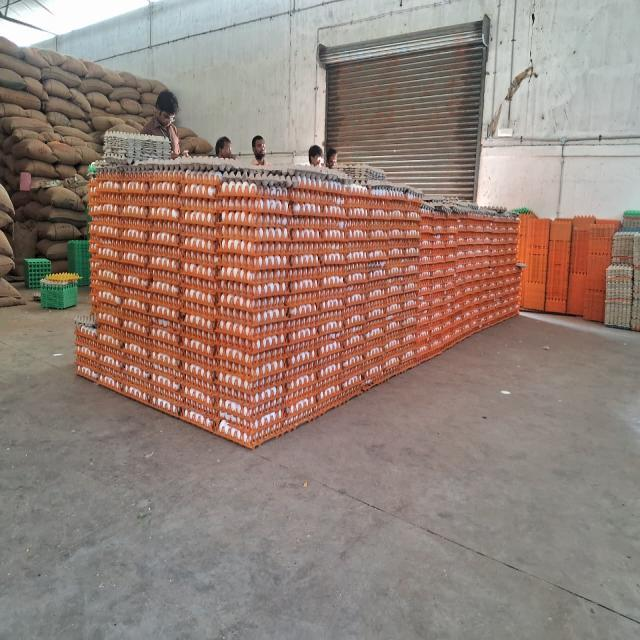egg_tray: (92, 175, 179, 414), (216, 183, 288, 442), (150, 175, 217, 429), (287, 185, 348, 426), (418, 208, 518, 353), (285, 192, 342, 411), (342, 190, 401, 393), (219, 240, 288, 396), (366, 188, 419, 383), (217, 187, 288, 327), (343, 193, 391, 385), (98, 287, 178, 401), (148, 196, 214, 330), (288, 185, 346, 332), (98, 312, 181, 414), (218, 323, 289, 441), (98, 311, 179, 414), (342, 184, 386, 365), (216, 323, 288, 425), (176, 173, 219, 343), (218, 347, 286, 445), (442, 217, 492, 347), (385, 190, 420, 373), (286, 323, 346, 426), (416, 206, 456, 359), (219, 343, 290, 429), (218, 185, 288, 271), (90, 224, 150, 323), (286, 349, 362, 427), (180, 277, 219, 428), (216, 314, 288, 395), (90, 202, 148, 301), (220, 225, 288, 309), (140, 196, 182, 330), (346, 199, 392, 319), (180, 170, 220, 307), (216, 327, 290, 395), (219, 263, 288, 335), (284, 326, 330, 428), (369, 267, 415, 369), (90, 259, 151, 335), (90, 261, 151, 334), (218, 380, 286, 445), (341, 287, 382, 392), (92, 238, 150, 311), (180, 321, 219, 429), (288, 265, 347, 336), (370, 194, 420, 277), (119, 334, 179, 402), (287, 263, 345, 333), (96, 323, 148, 401), (464, 218, 518, 293), (90, 172, 182, 216), (90, 195, 148, 264), (144, 222, 182, 325), (90, 247, 150, 312), (146, 315, 185, 415), (217, 256, 290, 308), (316, 332, 362, 410), (290, 203, 346, 267), (350, 196, 399, 266), (216, 177, 288, 223), (366, 317, 416, 383), (456, 219, 500, 290), (180, 277, 219, 357), (148, 245, 183, 333), (286, 326, 330, 394), (214, 409, 290, 448), (458, 217, 516, 268), (181, 277, 219, 354), (98, 195, 156, 245), (216, 326, 288, 365), (416, 205, 434, 361), (135, 156, 256, 179), (176, 276, 220, 339), (419, 209, 457, 281), (345, 184, 375, 273), (418, 279, 454, 353), (181, 360, 219, 430), (90, 180, 156, 220), (220, 162, 300, 195), (388, 212, 419, 296), (96, 171, 182, 201), (418, 233, 457, 297), (90, 225, 148, 267), (420, 225, 458, 289), (90, 236, 121, 313), (108, 327, 152, 381), (456, 217, 492, 283), (362, 323, 399, 387), (216, 179, 288, 211), (90, 253, 128, 313), (365, 199, 401, 262), (420, 216, 456, 279), (218, 306, 286, 339), (180, 333, 220, 389), (290, 177, 350, 214), (148, 245, 184, 306), (289, 183, 350, 219), (478, 275, 518, 329), (147, 357, 184, 415), (342, 302, 384, 353), (104, 131, 170, 163), (91, 188, 155, 221), (182, 198, 219, 255), (95, 319, 124, 390), (147, 202, 182, 259), (384, 312, 416, 374), (149, 321, 184, 375), (477, 280, 518, 326), (472, 267, 520, 305), (344, 265, 369, 337), (128, 170, 184, 202), (136, 195, 184, 232), (369, 185, 421, 219), (455, 257, 507, 291), (282, 166, 352, 191), (316, 373, 357, 415), (478, 287, 518, 329), (418, 275, 457, 318), (181, 245, 219, 289), (340, 329, 365, 395), (432, 213, 458, 275), (90, 205, 122, 255), (396, 298, 418, 369), (182, 197, 219, 239), (230, 167, 300, 189), (365, 181, 423, 207), (210, 418, 260, 448), (443, 289, 472, 340), (456, 269, 505, 299), (88, 171, 130, 206), (104, 142, 170, 164), (284, 393, 322, 431), (366, 223, 390, 281), (75, 326, 100, 381), (451, 285, 478, 335), (366, 181, 421, 205), (490, 217, 517, 265), (181, 169, 222, 200), (490, 217, 518, 262), (424, 269, 457, 307), (126, 136, 171, 163), (89, 171, 124, 205), (420, 204, 435, 279), (455, 215, 492, 245), (451, 298, 480, 336), (473, 287, 502, 325), (442, 308, 470, 347), (416, 320, 442, 362), (96, 349, 120, 392), (106, 131, 170, 147), (606, 264, 632, 300), (299, 335, 341, 357), (416, 310, 434, 361), (76, 347, 100, 383), (499, 276, 520, 317), (452, 306, 476, 341), (337, 164, 386, 181), (480, 305, 514, 329), (612, 231, 634, 265), (93, 158, 132, 177), (87, 172, 108, 205), (440, 307, 456, 349), (258, 407, 280, 437), (263, 205, 284, 236), (400, 185, 423, 212), (345, 183, 369, 207), (493, 262, 520, 282), (132, 267, 148, 300), (348, 170, 380, 185), (421, 199, 446, 218), (498, 241, 516, 267), (419, 201, 434, 231), (252, 269, 286, 282), (286, 412, 314, 427), (630, 290, 640, 330), (630, 291, 640, 330), (622, 211, 640, 231), (184, 261, 206, 276), (74, 313, 96, 328), (632, 229, 640, 269), (269, 218, 288, 234), (633, 264, 640, 297), (632, 295, 640, 319), (347, 291, 364, 302), (158, 211, 178, 220), (264, 384, 281, 394), (366, 325, 380, 335), (184, 235, 196, 246), (348, 275, 361, 284), (159, 213, 174, 219), (392, 284, 402, 293), (188, 218, 206, 223), (152, 238, 169, 243), (191, 411, 200, 419), (188, 281, 194, 293), (239, 351, 247, 359), (389, 355, 396, 363), (634, 268, 640, 277), (302, 245, 310, 251), (192, 293, 198, 301), (242, 409, 250, 415), (222, 215, 230, 221), (320, 333, 328, 339), (371, 210, 376, 218), (250, 403, 254, 413), (237, 385, 246, 389), (206, 289, 212, 295), (346, 273, 352, 279), (329, 325, 336, 330), (188, 246, 199, 249), (280, 327, 284, 335), (292, 255, 296, 263), (256, 397, 264, 401), (396, 267, 400, 275), (331, 247, 337, 252), (222, 325, 228, 330), (101, 287, 106, 293), (229, 185, 242, 187), (472, 218, 477, 223), (128, 210, 133, 215), (371, 332, 376, 337), (333, 238, 338, 243), (150, 345, 154, 351), (225, 429, 229, 435), (246, 329, 250, 335), (634, 269, 640, 273), (264, 336, 275, 338), (146, 273, 148, 284), (144, 183, 148, 188), (634, 271, 636, 281), (168, 315, 173, 319), (126, 187, 130, 192), (212, 241, 214, 251), (136, 165, 139, 171), (362, 274, 365, 280), (202, 298, 208, 301), (170, 181, 174, 185), (450, 233, 454, 237), (357, 355, 360, 360), (426, 281, 429, 286), (152, 398, 154, 405), (242, 352, 246, 355), (114, 254, 118, 257), (208, 265, 214, 267), (120, 322, 124, 325), (110, 320, 114, 323), (228, 314, 232, 317), (171, 198, 177, 200), (206, 260, 210, 263), (373, 229, 376, 233), (230, 275, 233, 279), (222, 183, 226, 186), (133, 211, 136, 215), (276, 205, 279, 209), (275, 398, 279, 401), (292, 213, 295, 217), (170, 354, 172, 359), (111, 227, 116, 229), (90, 192, 92, 197), (634, 276, 635, 286), (638, 273, 640, 278), (398, 322, 400, 327), (282, 206, 284, 211), (190, 256, 193, 259), (112, 227, 115, 230), (228, 416, 231, 419), (176, 328, 179, 331), (348, 375, 350, 379), (418, 337, 420, 341), (188, 193, 192, 195), (152, 298, 153, 306), (478, 217, 482, 219), (394, 332, 396, 336), (281, 327, 283, 330), (358, 389, 360, 392), (169, 175, 172, 177), (275, 168, 278, 170), (140, 307, 142, 310), (142, 308, 145, 310), (396, 256, 399, 258), (268, 193, 274, 194), (388, 361, 389, 367), (332, 260, 337, 261), (340, 252, 342, 254), (106, 255, 110, 256), (352, 380, 354, 382), (252, 279, 254, 281), (294, 203, 296, 205), (160, 349, 162, 351), (156, 291, 158, 293), (194, 421, 196, 423), (243, 408, 244, 412), (298, 382, 300, 384), (335, 225, 337, 227), (332, 195, 334, 197), (198, 282, 202, 283), (198, 261, 200, 263), (113, 254, 114, 257), (256, 278, 259, 279), (223, 183, 226, 184), (273, 176, 276, 177), (211, 338, 213, 339), (198, 333, 200, 334), (114, 267, 116, 268), (170, 242, 172, 243), (94, 218, 96, 219), (140, 193, 142, 194), (144, 209, 146, 210), (328, 247, 330, 248), (107, 218, 108, 219), (98, 318, 99, 319), (449, 240, 450, 241), (227, 336, 228, 337), (468, 300, 468, 301), (348, 379, 348, 379), (516, 267, 516, 268), (137, 291, 137, 292), (130, 267, 130, 269), (252, 185, 256, 185), (107, 287, 107, 289), (156, 265, 160, 265), (228, 408, 228, 410), (241, 249, 241, 250), (236, 238, 236, 239), (361, 378, 361, 379), (174, 411, 174, 412), (174, 388, 174, 389)
